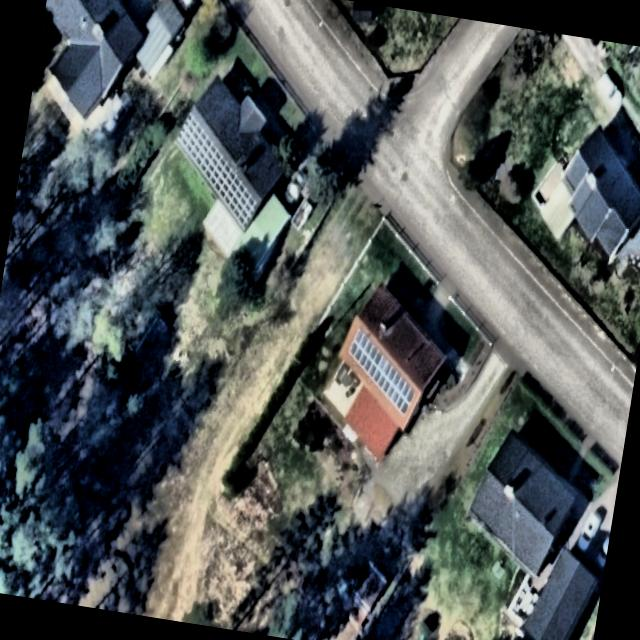roof_pv: (217, 164, 263, 232), (175, 112, 211, 174), (344, 327, 379, 383), (197, 137, 229, 197), (388, 370, 418, 420), (370, 352, 397, 404)
